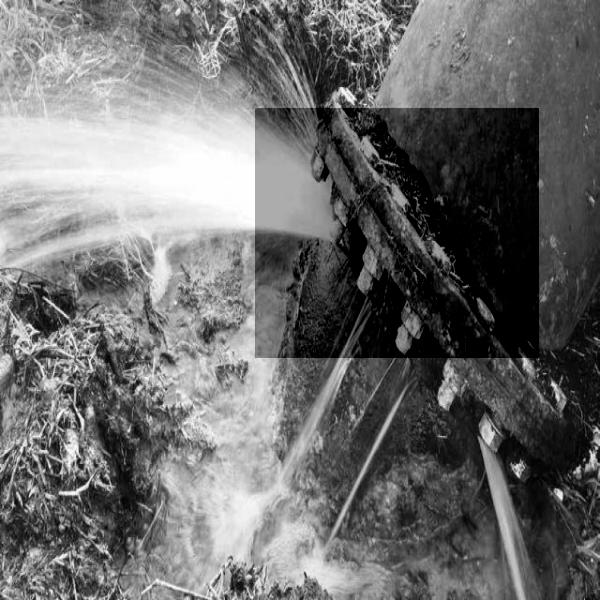water: (255, 108, 539, 358)
